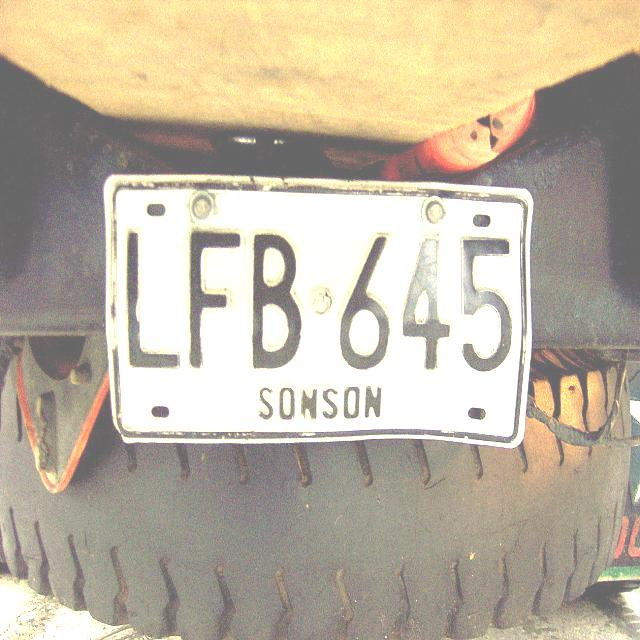particular: (96, 154, 538, 452)
